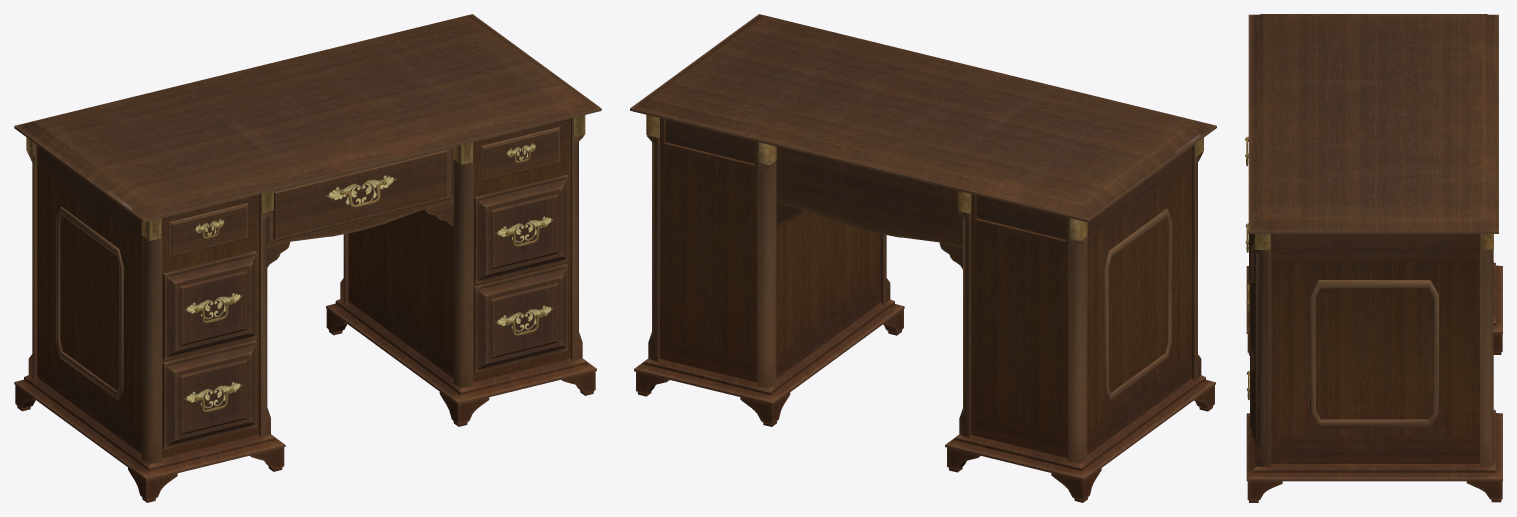
Rendered from reading_table.glb.
The picture shows the model from 3 angles, left to right: view 1: azimuth 30°, elevation 25°; view 2: azimuth 150°, elevation 25°; view 3: azimuth 270°, elevation 25°; orthographic projection. The views are drawn at different scales.
Visible parts, largest first — view 1: Box002; view 2: Box002; view 3: Box002.
Part boxes in pixels (left/top/right/bottom): Box002: left=14, top=14, right=601, bottom=502; Box002: left=630, top=14, right=1216, bottom=502; Box002: left=1245, top=14, right=1502, bottom=502.
Size of the model in its own units: 2 by 1.21 by 1.
Materials: 1 (1 with a texture image).
